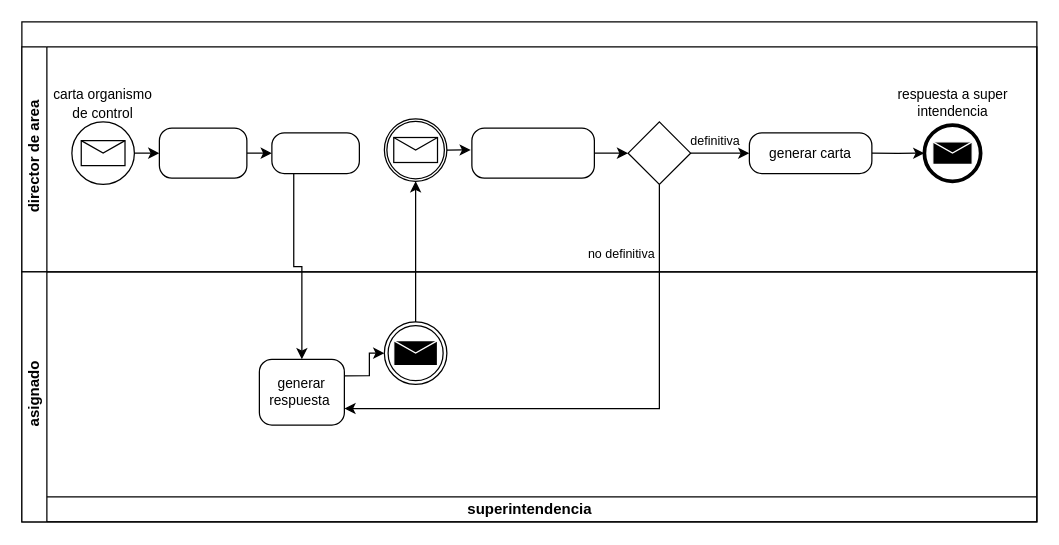
This 1059x545 diagram has some shape labels left out. Each missing label, with the centre of its shape:
"asignar caso" belongs at pixel 315 153.
"ingresar requerimiento" belongs at pixel 202 152.
"revisar respuesta" belongs at pixel 532 152.
